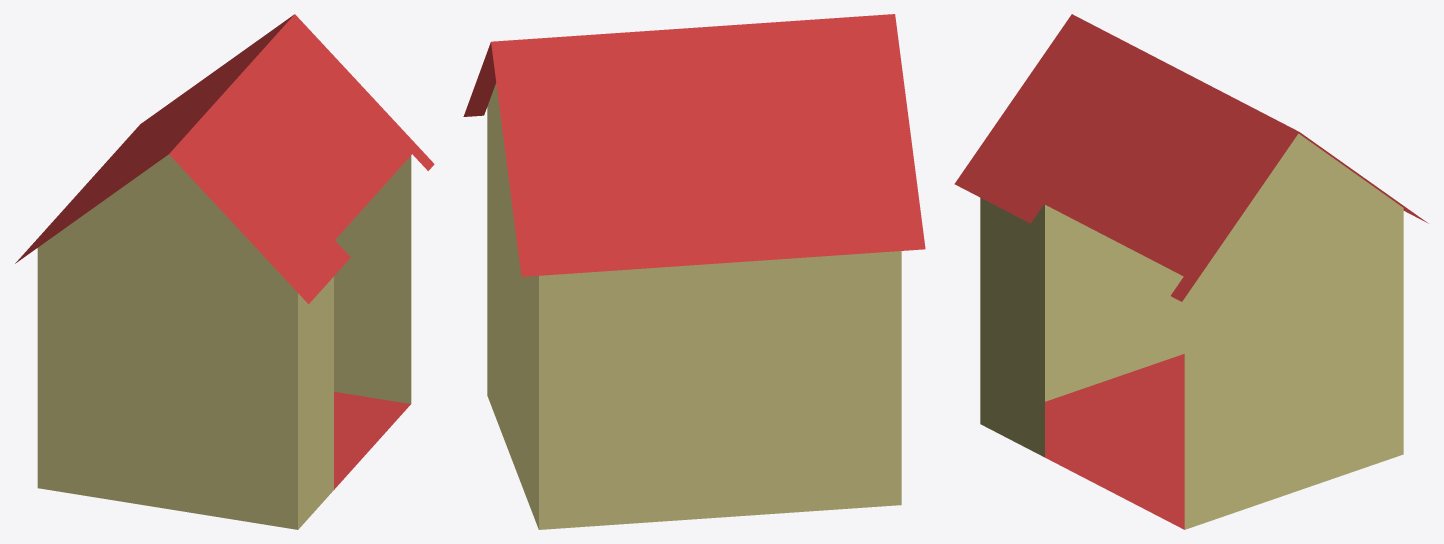
3 views of the same model, side by side, from view 1: azimuth 30°, elevation 25°; view 2: azimuth 150°, elevation 25°; view 3: azimuth 270°, elevation 25° (orthographic). The views are drawn at different scales.
Bounding box in the file's own units: 13.02 × 12.87 × 11.01.
